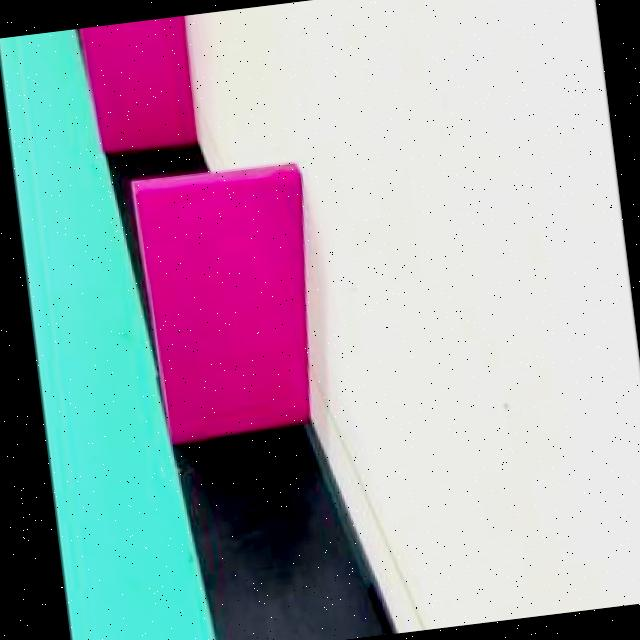xparking: (134, 173, 306, 441), (87, 14, 198, 152)
